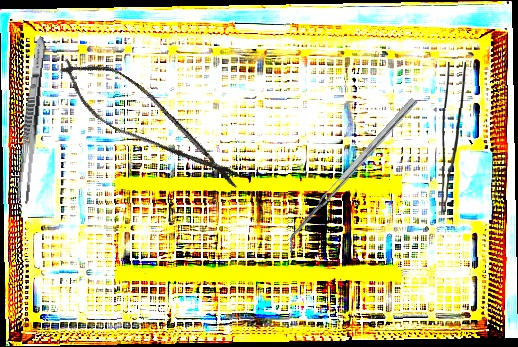Dressing Forceps: (15, 35, 49, 205)
Micro Scissor: (46, 42, 256, 203)
Spatula Surgical: (280, 97, 423, 254)
Tissue Forceps: (440, 61, 467, 213)
